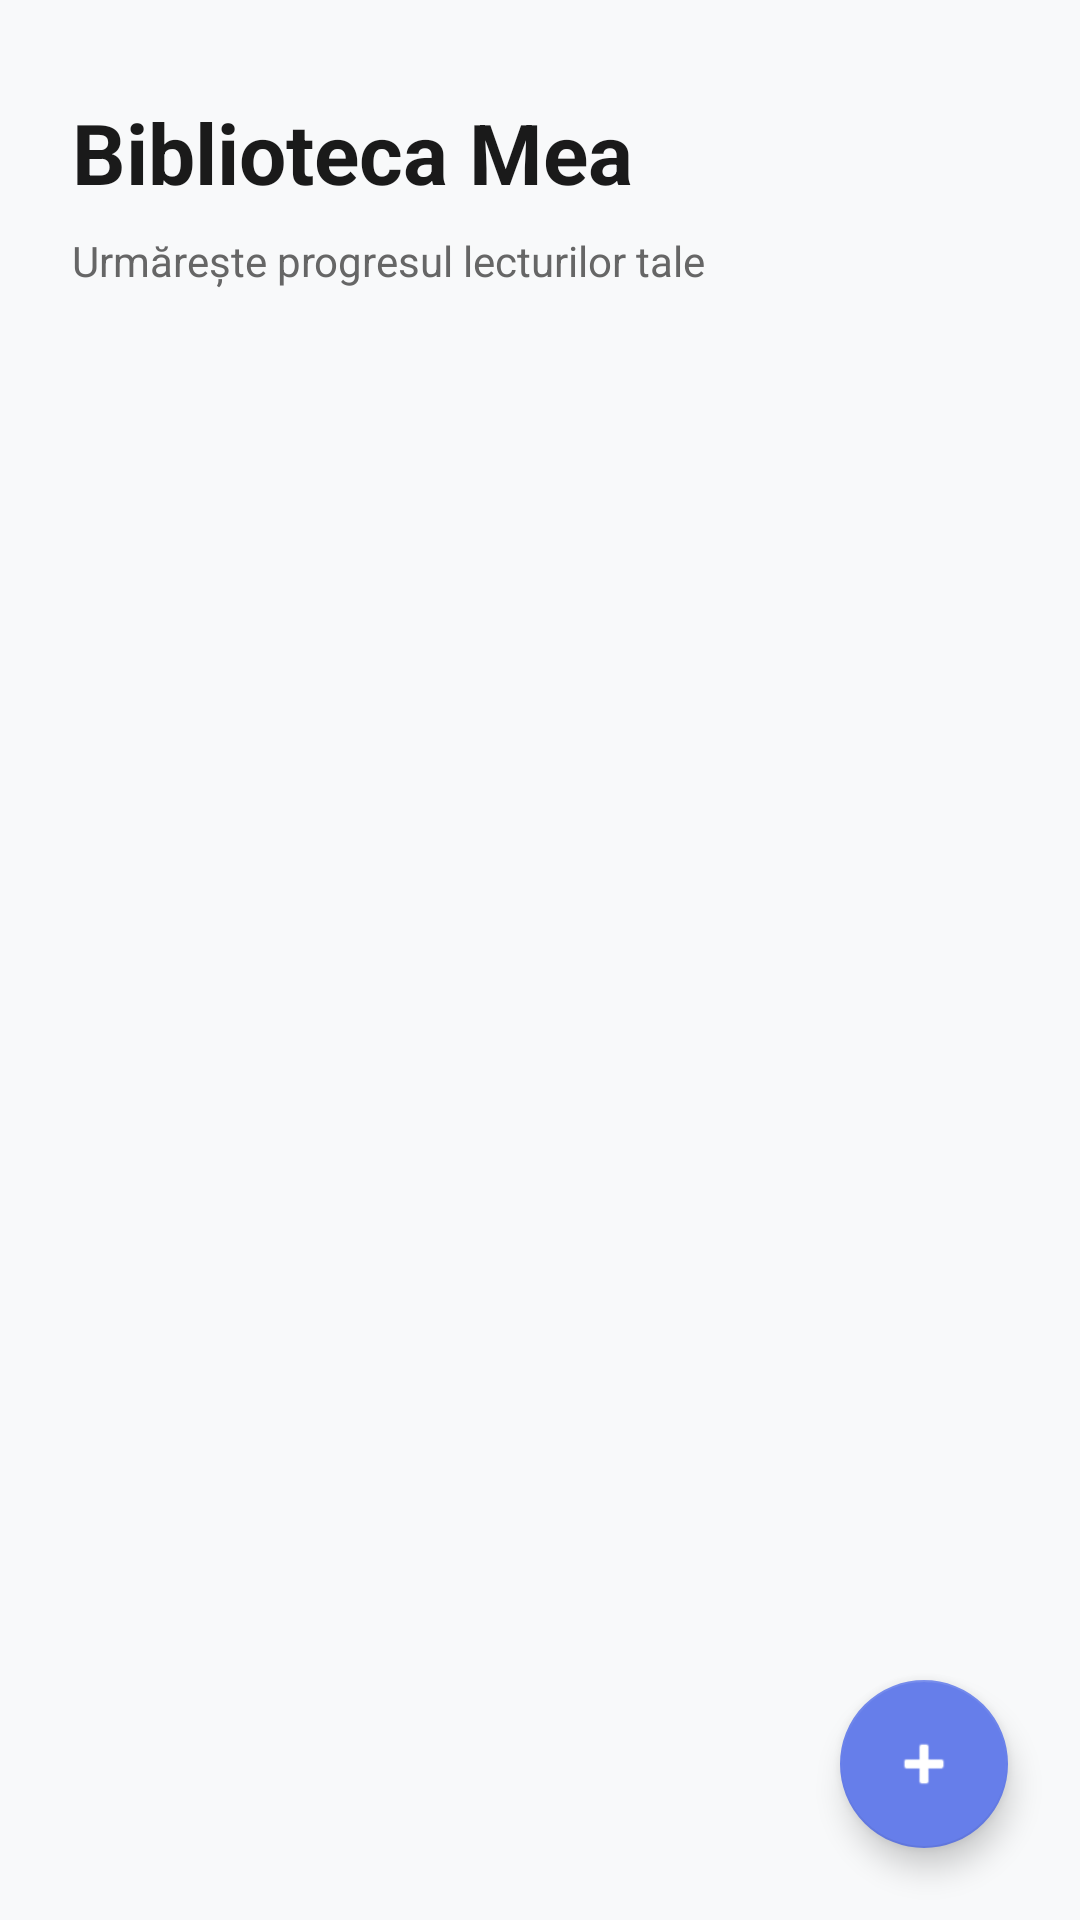

Named icons in this screenshot (1080w x 1920h) and their bounding boxes, {"left": x1, "top": y1, "right": x2, "bottom": y2}:
Adauga carte: {"left": 840, "top": 1680, "right": 1008, "bottom": 1848}
